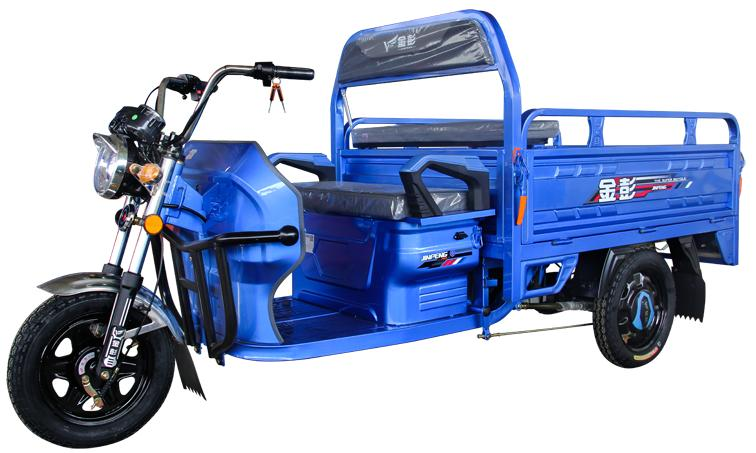empty: (8, 8, 754, 453)
